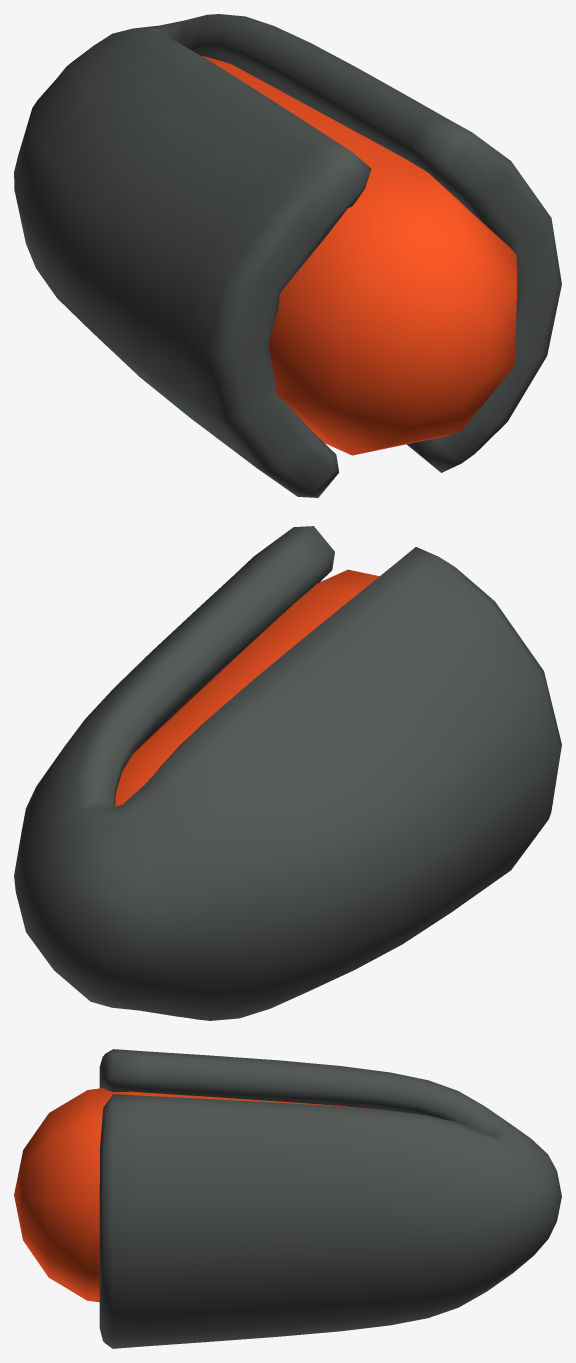
File: xsens_LeftFirstDP.dae
3 views of the same model, one above another, from view 1: azimuth 30°, elevation 25°; view 2: azimuth 150°, elevation 25°; view 3: azimuth 270°, elevation 25° (orthographic). The views are drawn at different scales.
Parts seen in each view (by area): view 1: LeftFirstDP; view 2: LeftFirstDP; view 3: LeftFirstDP.
Boxes of the visible parts, bbox=[...] form: LeftFirstDP: bbox=[14, 14, 561, 497]; LeftFirstDP: bbox=[14, 526, 561, 1020]; LeftFirstDP: bbox=[14, 1049, 561, 1348].
Bounding box in the file's own units: 0.0179 × 0.0309 × 0.0161.
